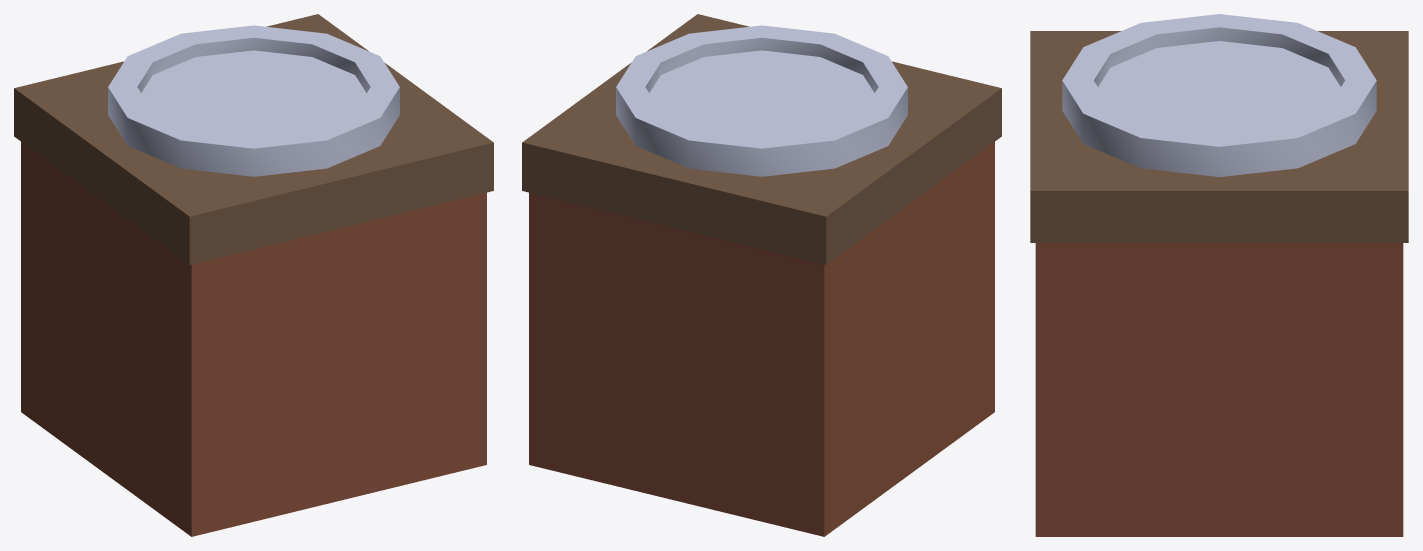
The model's file is counter.gltf.
3 views of the same model, side by side, from view 1: azimuth 30°, elevation 25°; view 2: azimuth 150°, elevation 25°; view 3: azimuth 270°, elevation 25° (orthographic). The views are drawn at different scales.
Visible parts, largest first — view 1: Counter, Cube, Plate2; view 2: Counter, Cube, Plate2; view 3: Counter, Cube, Plate2.
Boxes of the visible parts, x1,y1,x2,y2 form: Counter: (21, 142, 486, 536); Cube: (14, 14, 493, 264); Plate2: (108, 25, 399, 176); Counter: (529, 142, 994, 536); Cube: (522, 14, 1001, 264); Plate2: (616, 25, 907, 176); Counter: (1035, 243, 1403, 536); Cube: (1030, 31, 1408, 242); Plate2: (1062, 14, 1376, 177).
Size of the model in its own units: 1.03 by 1.14 by 1.03.
